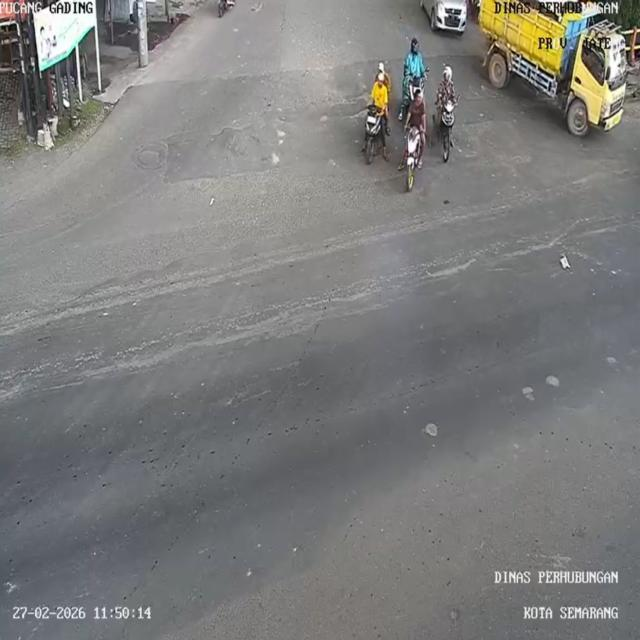motorcycle: (401, 126, 427, 188), (362, 101, 383, 166), (440, 99, 458, 165)
person: (403, 90, 429, 132), (405, 40, 429, 80), (436, 65, 460, 105), (369, 74, 388, 113), (374, 61, 392, 85)
rider_region: (361, 60, 394, 166), (432, 64, 460, 162), (402, 89, 428, 193)
